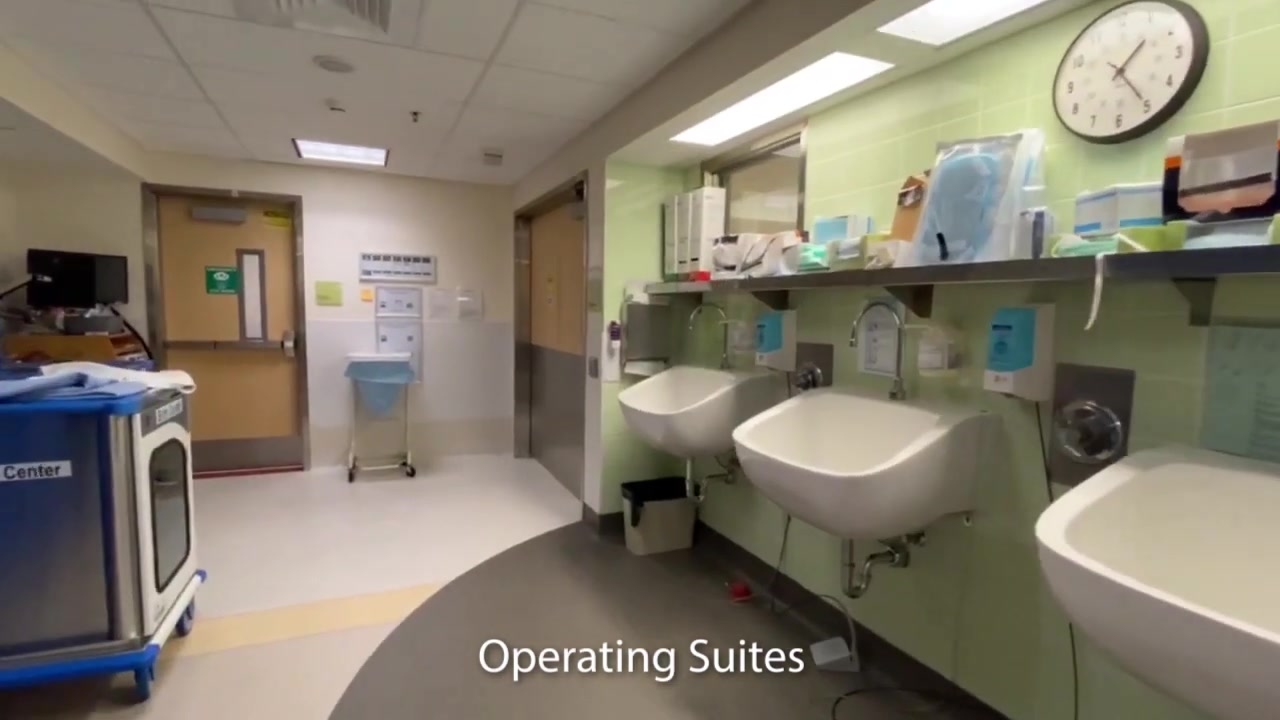computer: (24, 247, 130, 318)
dispenser: (983, 301, 1057, 400), (906, 315, 963, 379), (751, 307, 797, 373)
faucet: (849, 294, 914, 399), (685, 296, 737, 372)
press_to_open: (588, 357, 599, 379)
push_latch: (163, 331, 298, 359)
sink: (1030, 411, 1278, 720), (731, 385, 994, 539), (618, 360, 788, 460)
waste_bin: (343, 351, 423, 483), (619, 475, 703, 556)
